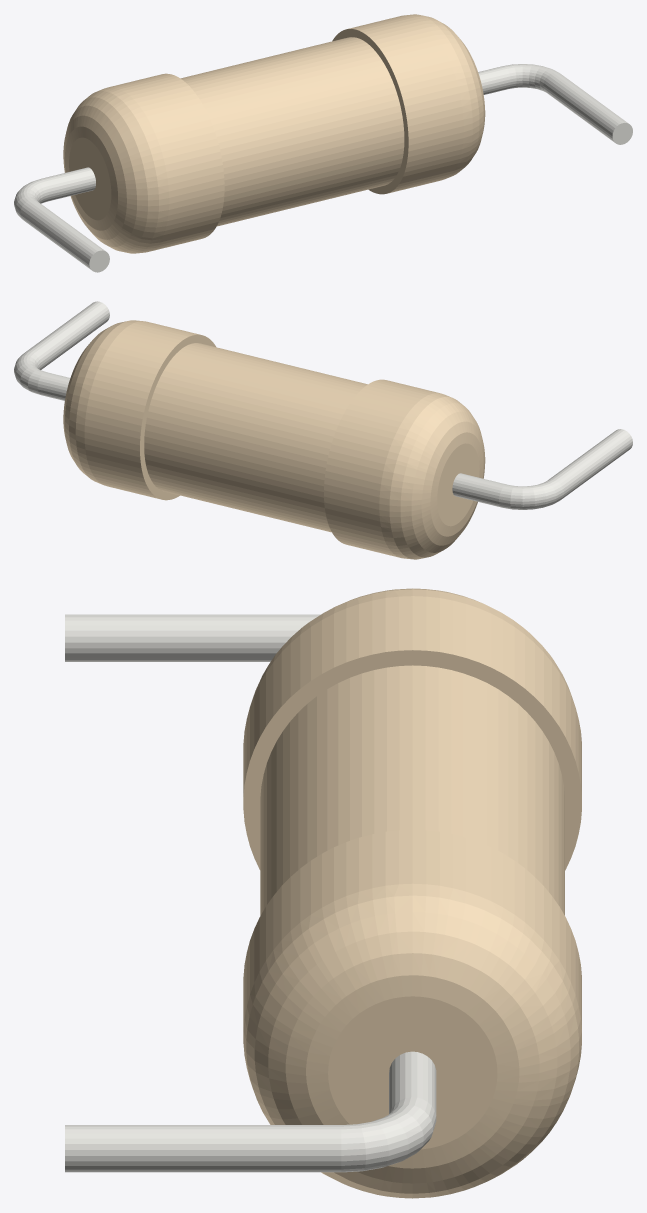
File: R_Axial_DIN0614_L14.3mm_D5.7mm_P20.32mm_Horizontal.glb
3 renders of one model, top to bottom at view 1: azimuth 30°, elevation 25°; view 2: azimuth 150°, elevation 25°; view 3: azimuth 270°, elevation 25°, orthographic. The views are drawn at different scales.
Visible parts, largest first — view 1: Shape_IndexedFaceSet.004, Shape_IndexedFaceSet.010, Shape_IndexedFaceSet, Shape_IndexedFaceSet.008, Shape_IndexedFaceSet.001, Shape_IndexedFaceSet.009, Shape_IndexedFaceSet.015, Shape_IndexedFaceSet.012, Shape_IndexedFaceSet.002, Shape_IndexedFaceSet.013, Shape_IndexedFaceSet.007, Shape_IndexedFaceSet.014 (+1 smaller); view 2: Shape_IndexedFaceSet.004, Shape_IndexedFaceSet.010, Shape_IndexedFaceSet.008, Shape_IndexedFaceSet, Shape_IndexedFaceSet.001, Shape_IndexedFaceSet.015, Shape_IndexedFaceSet.009, Shape_IndexedFaceSet.012, Shape_IndexedFaceSet.014, Shape_IndexedFaceSet.002, Shape_IndexedFaceSet.013, Shape_IndexedFaceSet.007 (+1 smaller); view 3: Shape_IndexedFaceSet.001, Shape_IndexedFaceSet.004, Shape_IndexedFaceSet.008, Shape_IndexedFaceSet, Shape_IndexedFaceSet.003, Shape_IndexedFaceSet.009, Shape_IndexedFaceSet.015, Shape_IndexedFaceSet.006, Shape_IndexedFaceSet.007, Shape_IndexedFaceSet.005, Shape_IndexedFaceSet.010.
Part boxes in pixels (x1,y1,x2,y2): Shape_IndexedFaceSet.004: (180, 37, 404, 226); Shape_IndexedFaceSet.010: (63, 87, 169, 253); Shape_IndexedFaceSet: (348, 15, 463, 193); Shape_IndexedFaceSet.008: (109, 73, 224, 251); Shape_IndexedFaceSet.001: (407, 14, 485, 178); Shape_IndexedFaceSet.009: (543, 72, 628, 142); Shape_IndexedFaceSet.015: (20, 200, 104, 269); Shape_IndexedFaceSet.012: (69, 137, 111, 220); Shape_IndexedFaceSet.002: (332, 29, 408, 194); Shape_IndexedFaceSet.013: (42, 167, 95, 201); Shape_IndexedFaceSet.007: (503, 64, 558, 92); Shape_IndexedFaceSet.014: (14, 178, 49, 218); Shape_IndexedFaceSet.004: (144, 343, 367, 532); Shape_IndexedFaceSet.010: (379, 393, 485, 559); Shape_IndexedFaceSet.008: (324, 379, 439, 557); Shape_IndexedFaceSet: (84, 321, 200, 498); Shape_IndexedFaceSet.001: (63, 320, 142, 484); Shape_IndexedFaceSet.015: (548, 429, 632, 498); Shape_IndexedFaceSet.009: (25, 301, 109, 369); Shape_IndexedFaceSet.012: (437, 443, 479, 526); Shape_IndexedFaceSet.014: (499, 479, 563, 509); Shape_IndexedFaceSet.002: (140, 334, 215, 500); Shape_IndexedFaceSet.013: (452, 473, 506, 507); Shape_IndexedFaceSet.007: (14, 352, 45, 394); Shape_IndexedFaceSet.001: (243, 883, 581, 1198); Shape_IndexedFaceSet.004: (260, 665, 564, 915); Shape_IndexedFaceSet.008: (243, 596, 581, 796); Shape_IndexedFaceSet: (243, 829, 581, 1030); Shape_IndexedFaceSet.003: (328, 996, 497, 1149); Shape_IndexedFaceSet.009: (65, 1125, 341, 1172); Shape_IndexedFaceSet.015: (65, 614, 320, 661); Shape_IndexedFaceSet.006: (243, 650, 581, 870); Shape_IndexedFaceSet.007: (341, 1097, 436, 1172); Shape_IndexedFaceSet.005: (389, 1051, 436, 1114); Shape_IndexedFaceSet.010: (251, 588, 573, 701).
Size of the model in its own units: 8.31 by 2.24 by 3.42.
